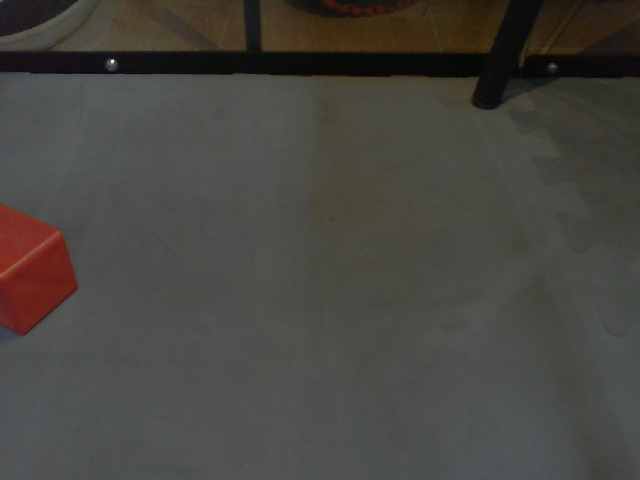RedSample: (1, 199, 80, 335)
